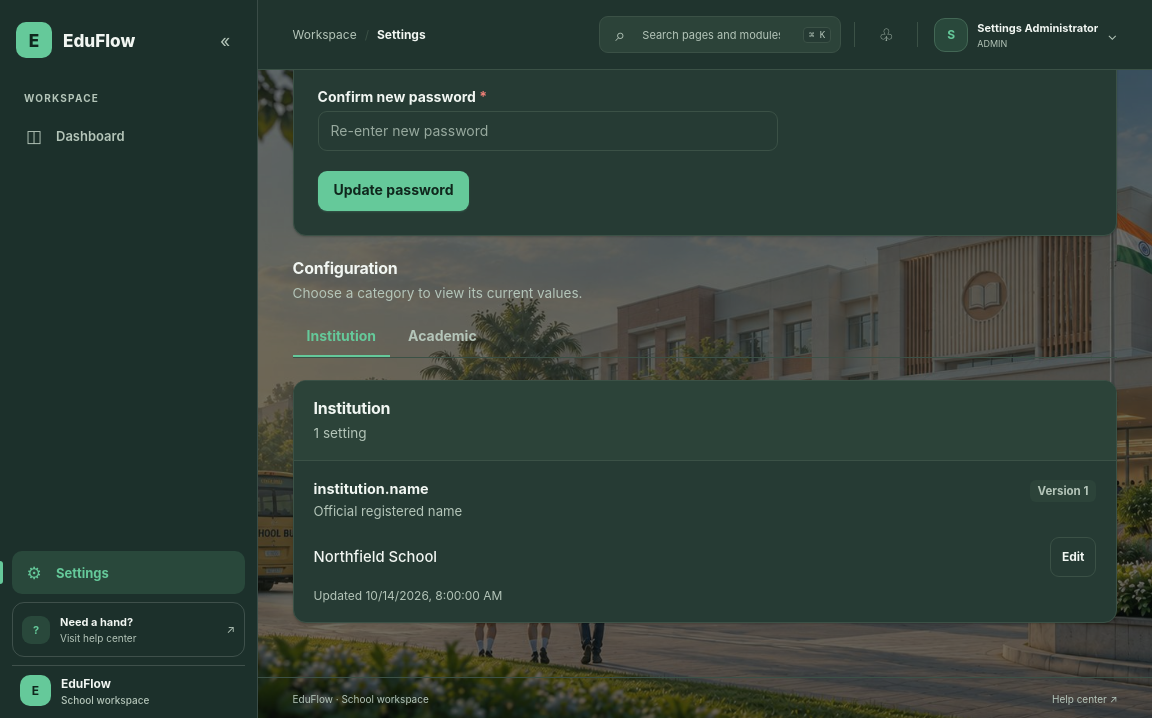
Settings workspace › confirms before discarding a dirty edit when changing category
The image size is (1152, 718).
(page scrolled)
Click the button "Edit". click: [1073, 557]
box: [1050, 537, 1096, 577]
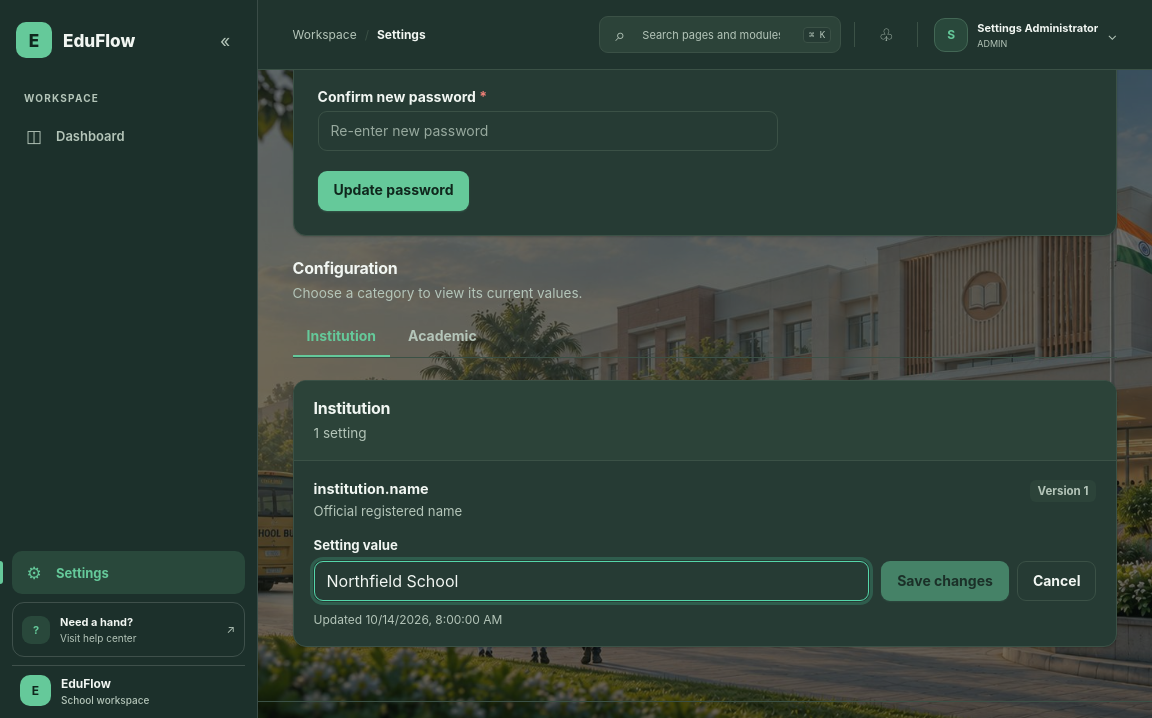
Type " Updated" into the field labelled "Setting value". click: [591, 581]
box: [314, 561, 869, 601]
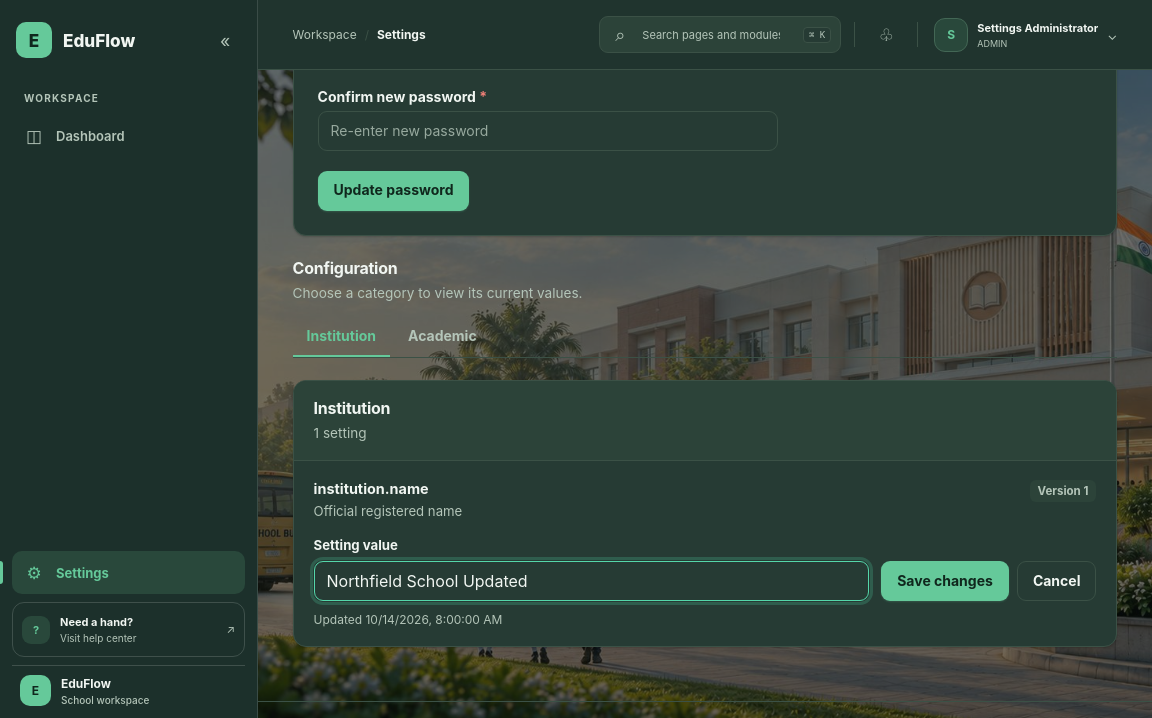
Click the tab "Academic". click: [442, 336]
box: [394, 315, 491, 357]
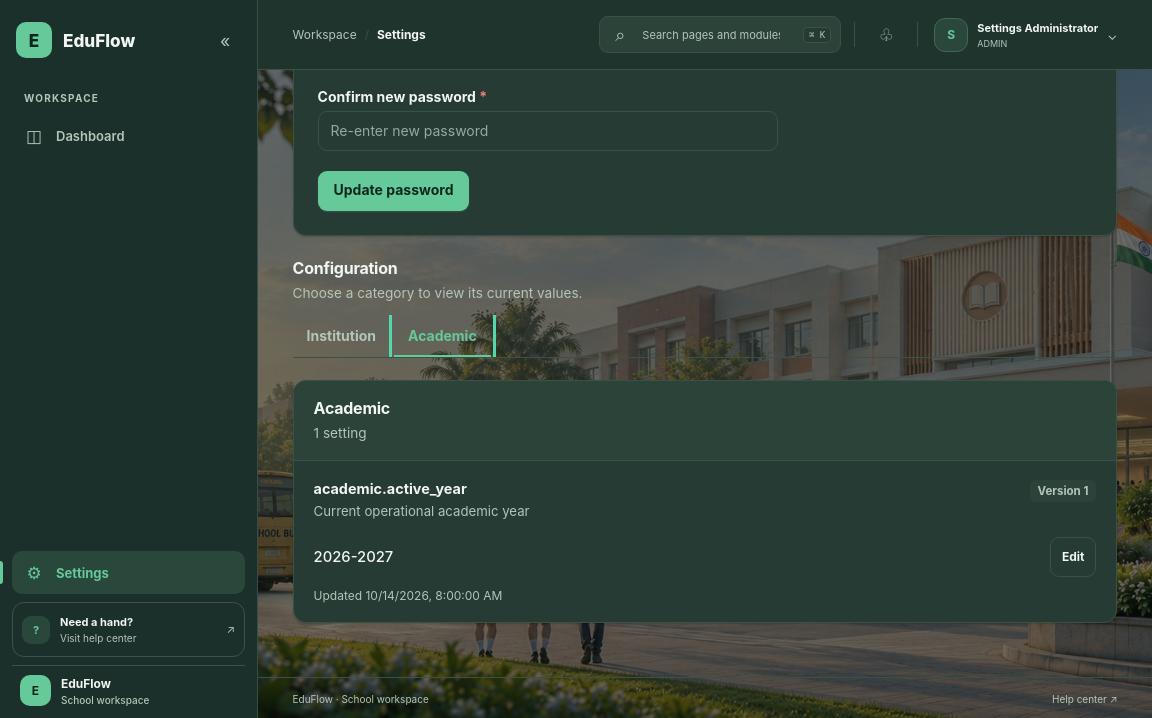
Result: the text "2026-2027" is shown at [314, 548, 393, 566]
